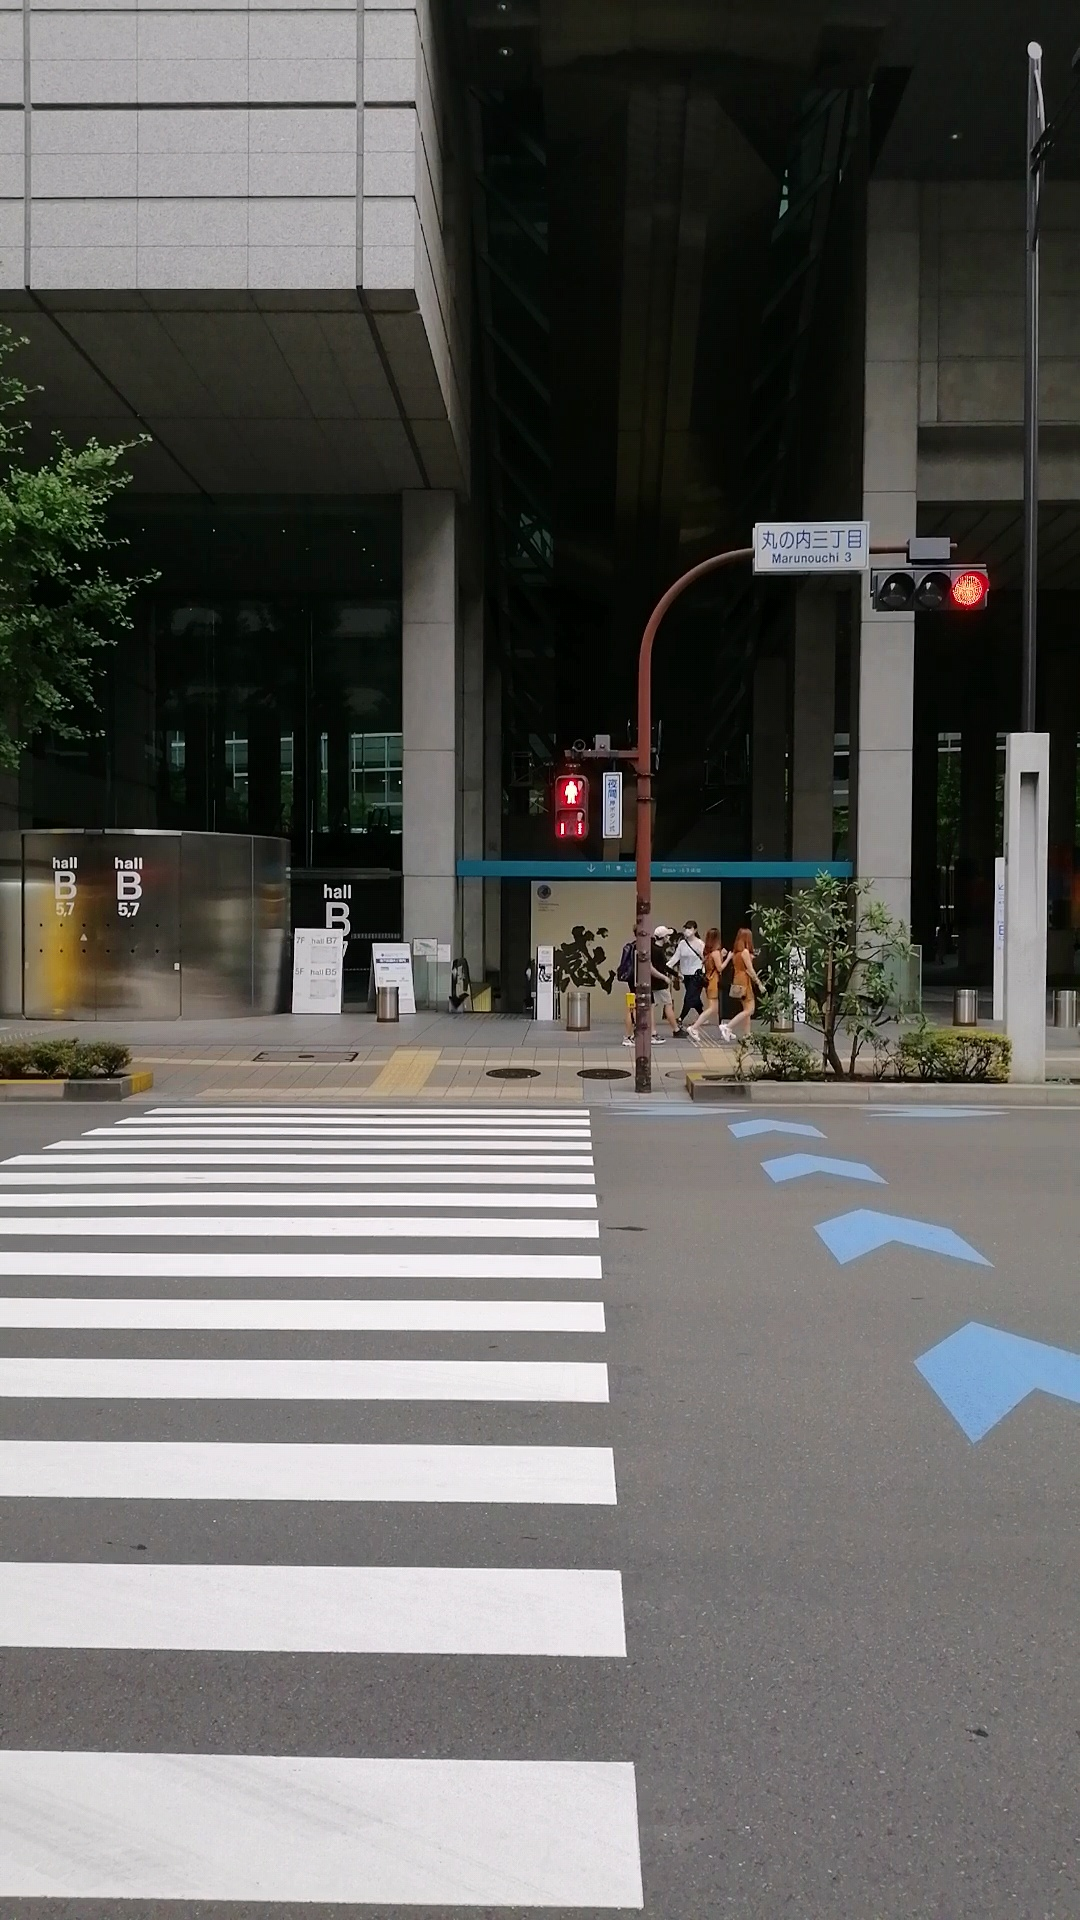red: (553, 774, 589, 840)
